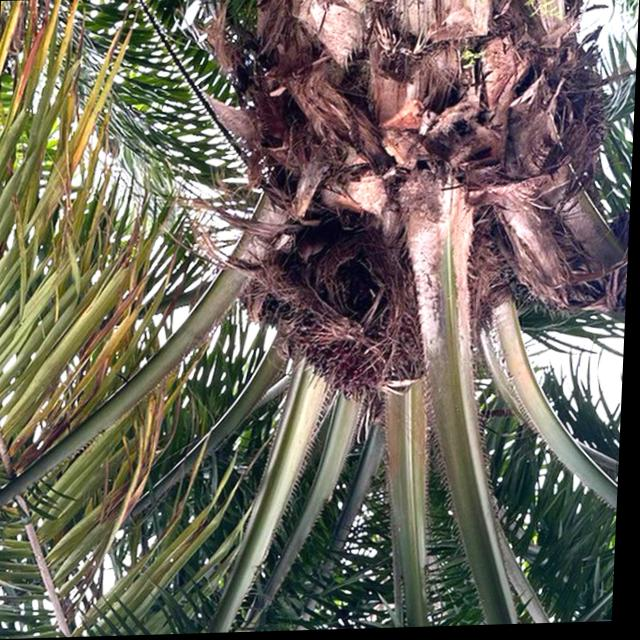ripe: (282, 298, 430, 417)
